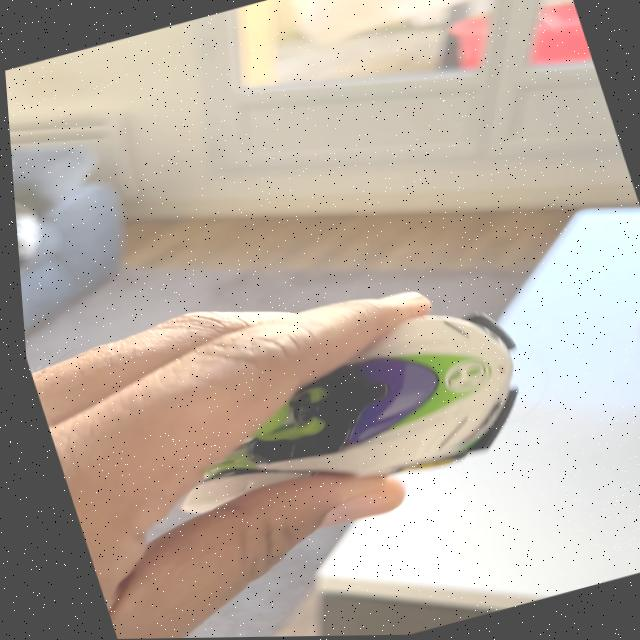yoshi: (229, 288, 558, 520)
